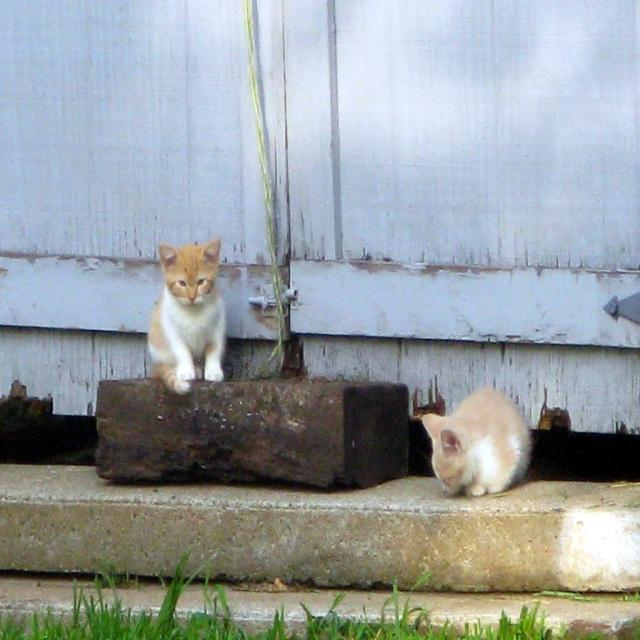Cat: (418, 385, 532, 501), (143, 243, 224, 397)
